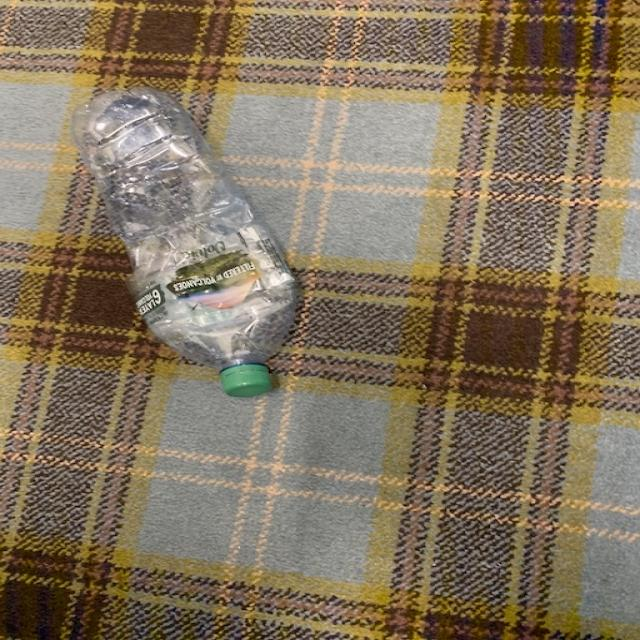Waste: (70, 87, 295, 398)
